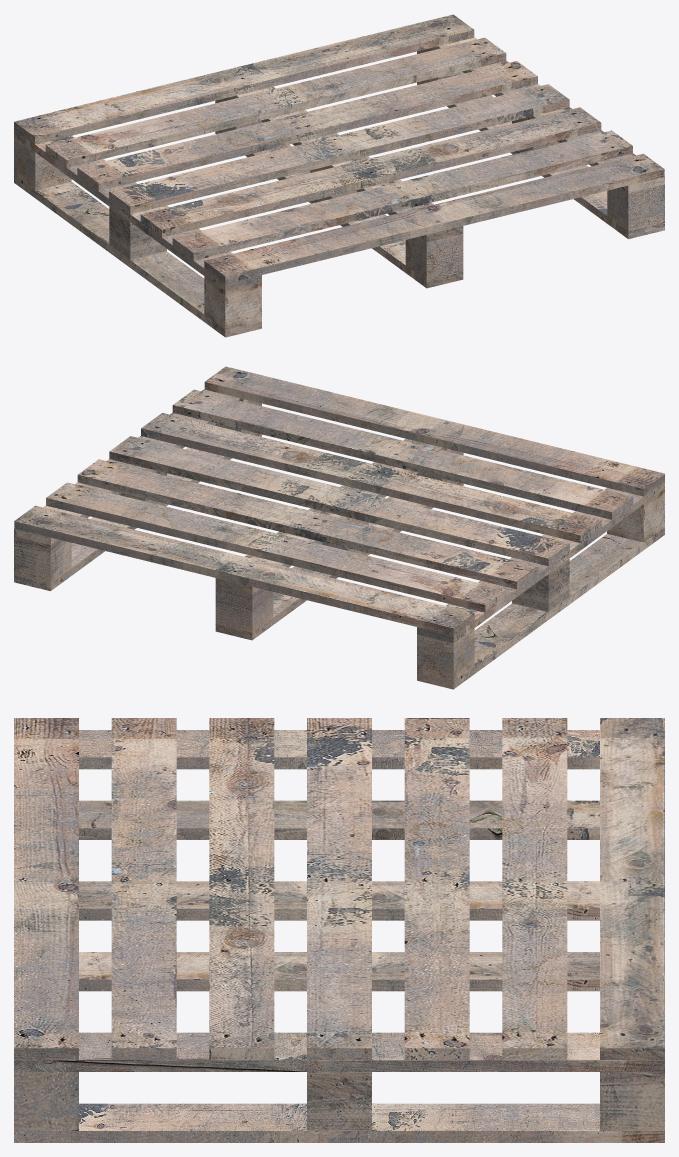
Rendered from d_pallet.FBX.
The picture shows the model from 3 angles, top to bottom: view 1: azimuth 30°, elevation 25°; view 2: azimuth 150°, elevation 25°; view 3: azimuth 270°, elevation 25°; orthographic projection. The views are drawn at different scales.
Visible parts, largest first — view 1: d_pallet; view 2: d_pallet; view 3: d_pallet.
Part boxes in pixels (x1=…): d_pallet: x1=14, y1=14, x2=664, y2=337; d_pallet: x1=14, y1=366, x2=664, y2=689; d_pallet: x1=14, y1=718, x2=664, y2=1142.
Bounding box in the file's own units: 1.2 × 1 × 0.16.
